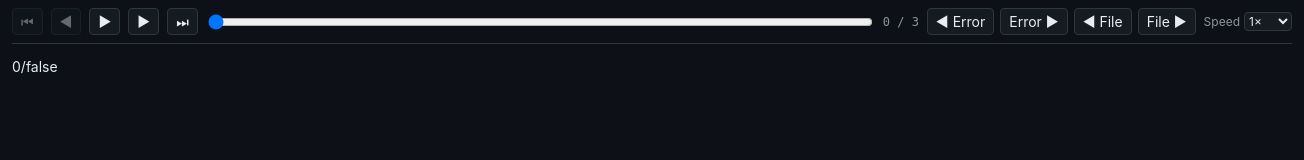
Test: ReplayControls › steps forward and back by one raw seq
Click the button named "Step forward" at (144, 22), box [128,8,159,35]
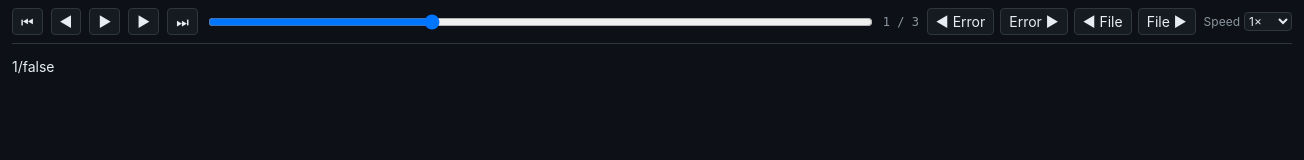
Expected: the text with test id "state" reads "1/false", [12,58,54,75]
Click the button named "Step back" at (66, 22), box [51,8,81,35]
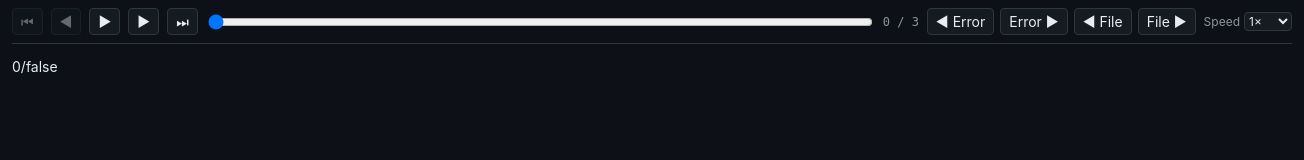
Expected: the text with test id "state" reads "0/false", [12,58,58,75]
